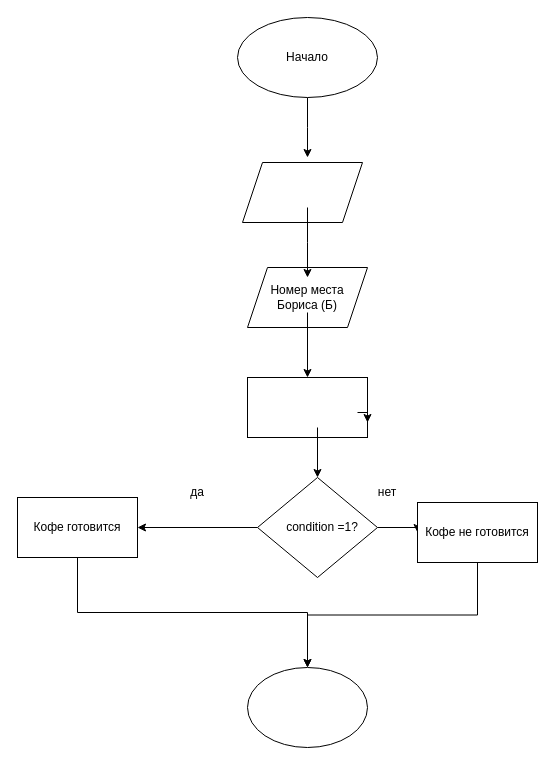
Some shapes in this 555 by 765 pixel diagram are drawn without their labels. Each missing label, with the centre of its shape:
"Condition =(A%2 != B%2)" belongs at [307,407].
"Конец" belongs at [307,707].
"Номер места Анны (А)" belongs at [302,192].
